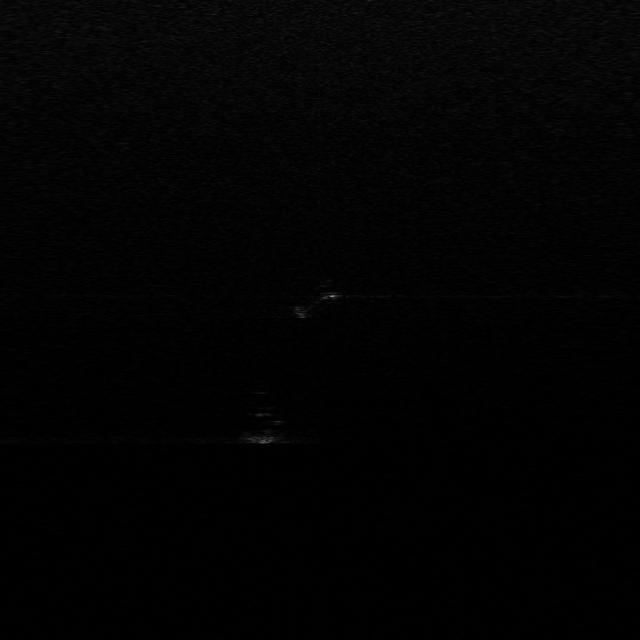ball: (234, 408, 292, 443)
tyre: (297, 288, 338, 318)
